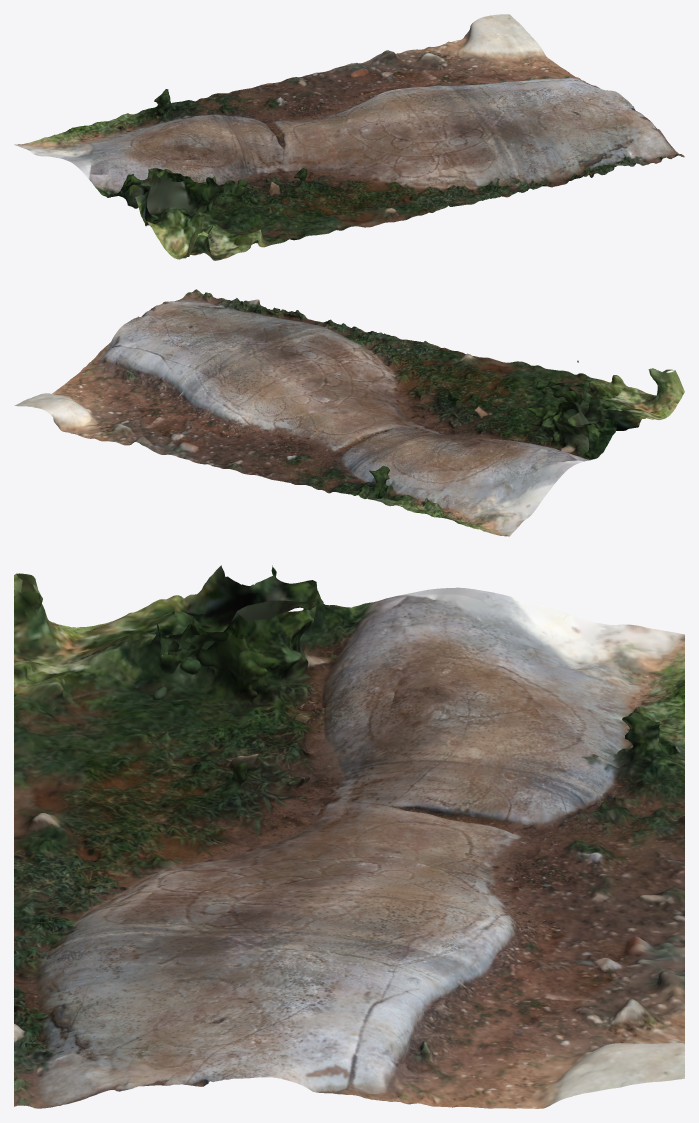
Rendered from dalle-03.glb.
3 renders of one model, top to bottom at view 1: azimuth 30°, elevation 25°; view 2: azimuth 150°, elevation 25°; view 3: azimuth 270°, elevation 25°, orthographic. The views are drawn at different scales.
Visible parts, largest first — view 1: Node1; view 2: Node1; view 3: Node1.
Part boxes in pixels (<box>): Node1: <box>14,14,684,260</box>; Node1: <box>14,289,684,536</box>; Node1: <box>14,565,684,1108</box>.
Size of the model in its own units: 1.99 by 0.1628 by 1.22.
1 material, 1 textured.
